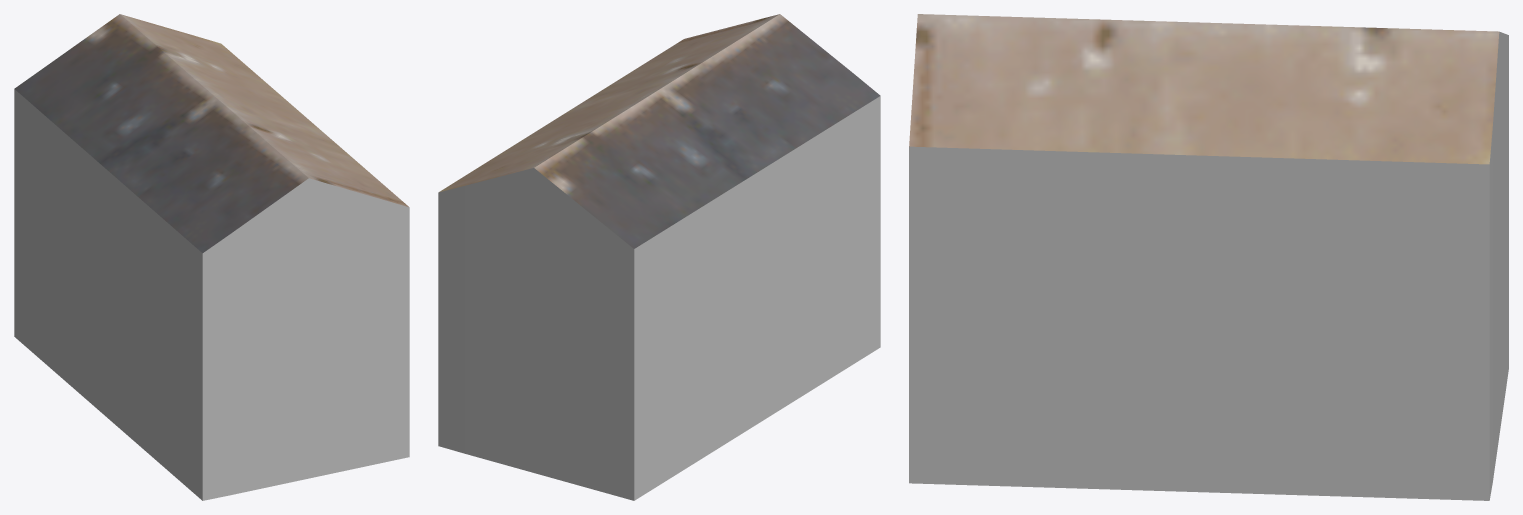
The model's file is DEBW_0010007Txi8.gltf.
The picture shows the model from 3 angles, left to right: view 1: azimuth 30°, elevation 25°; view 2: azimuth 150°, elevation 25°; view 3: azimuth 270°, elevation 25°; orthographic projection. The views are drawn at different scales.
Visible parts, largest first — view 1: Z_UP; view 2: Z_UP; view 3: Z_UP.
Part boxes in pixels (x1,y1,x2,y2): Z_UP: (14, 14, 409, 500); Z_UP: (438, 14, 880, 500); Z_UP: (909, 14, 1508, 500).
Size of the model in its own units: 12.49 by 15.79 by 21.19.
Materials: 2 (1 with a texture image).
